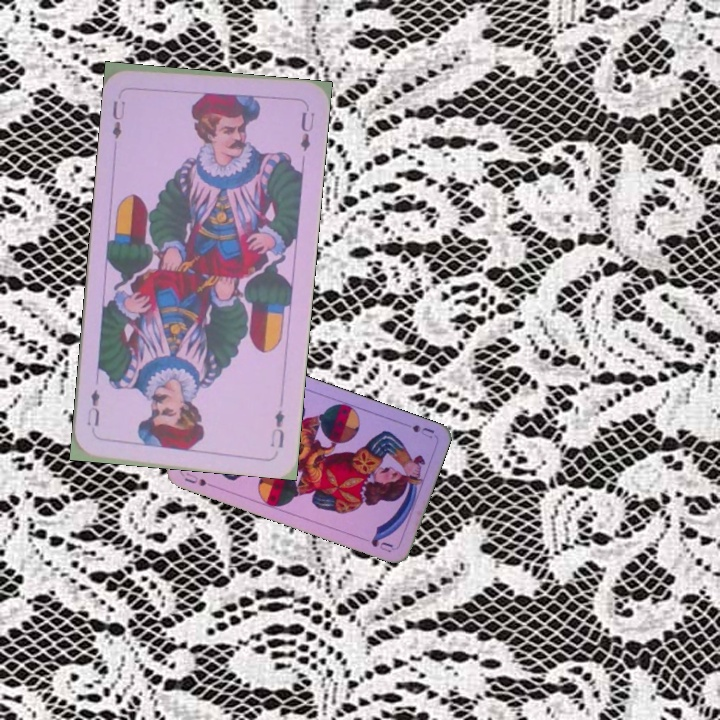EU: (266, 406, 287, 451), (108, 97, 128, 142)
SU: (397, 418, 437, 441), (180, 468, 217, 490)
